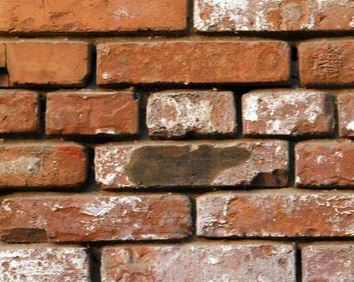brick: (1, 191, 193, 241), (92, 143, 291, 187), (94, 41, 290, 83), (194, 191, 354, 240), (97, 247, 298, 281), (1, 1, 189, 31), (191, 1, 354, 33), (44, 92, 140, 137), (242, 91, 336, 135), (145, 91, 239, 134), (1, 142, 88, 188), (8, 41, 92, 85), (1, 247, 91, 282), (295, 141, 354, 187), (296, 40, 354, 85), (298, 245, 353, 282)
